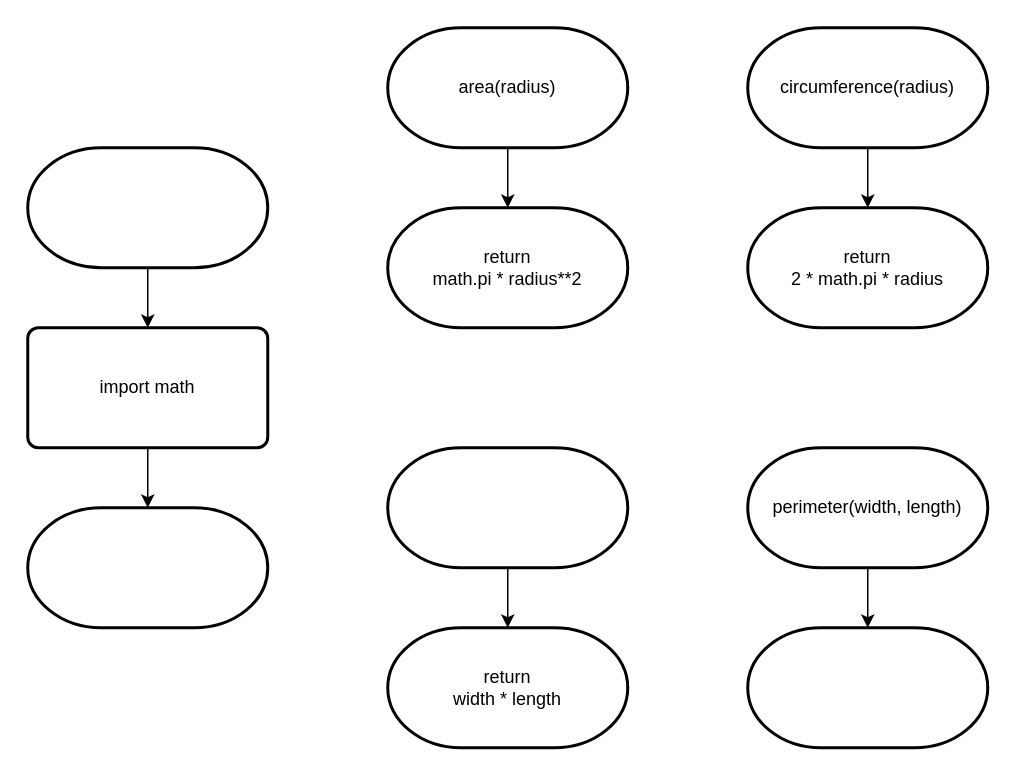
This 1014x774 diagram has some shape labels left out. Each missing label, with the box of its shape:
area(with, length): (386, 446, 628, 568)
End: (26, 506, 268, 628)
return 2 * (width + length): (746, 626, 988, 748)
Start: (26, 146, 268, 268)
